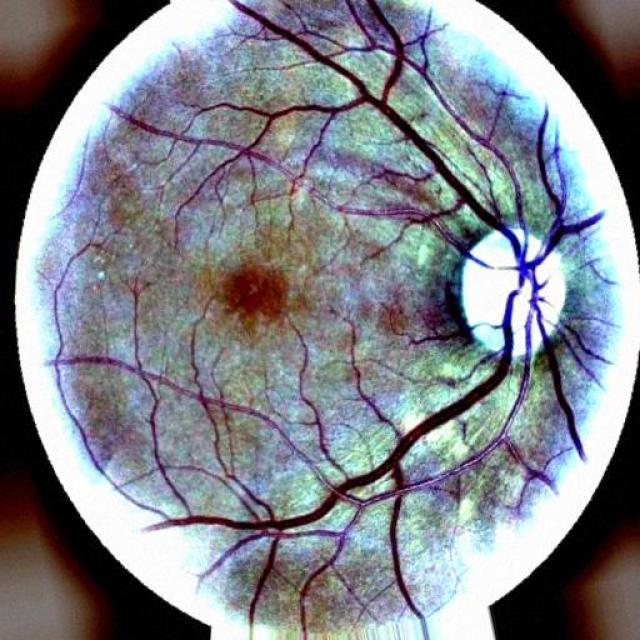Macula: (218, 264, 288, 330)
Nerves: (164, 0, 601, 532), (465, 324, 531, 462)
Optic Disk: (460, 228, 565, 358)
